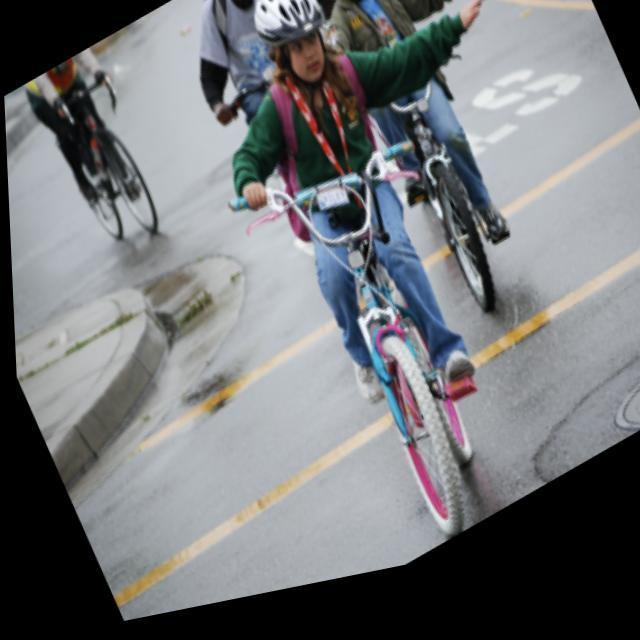Helmet: (243, 0, 342, 99)
